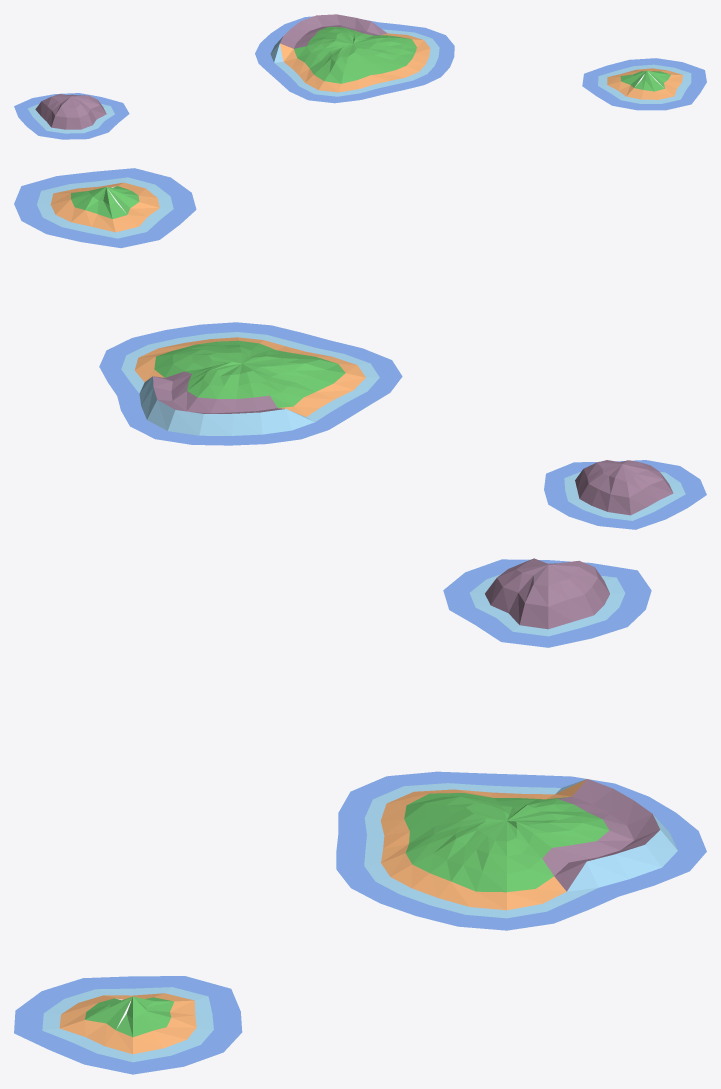
Rendered from islets.glb.
The picture shows the model from 3 angles, top to bottom: view 1: azimuth 30°, elevation 25°; view 2: azimuth 150°, elevation 25°; view 3: azimuth 270°, elevation 25°; orthographic projection. The views are drawn at different scales.
Parts seen in each view (by area): view 1: Mesh; view 2: Mesh; view 3: Mesh.
Part boxes in pixels (box(x1,y1,x2,y2)): Mesh: box(14, 14, 706, 139); Mesh: box(14, 168, 706, 529); Mesh: box(14, 558, 706, 1074).
Size of the model in its own units: 58.68 by 1.9 by 33.36.
